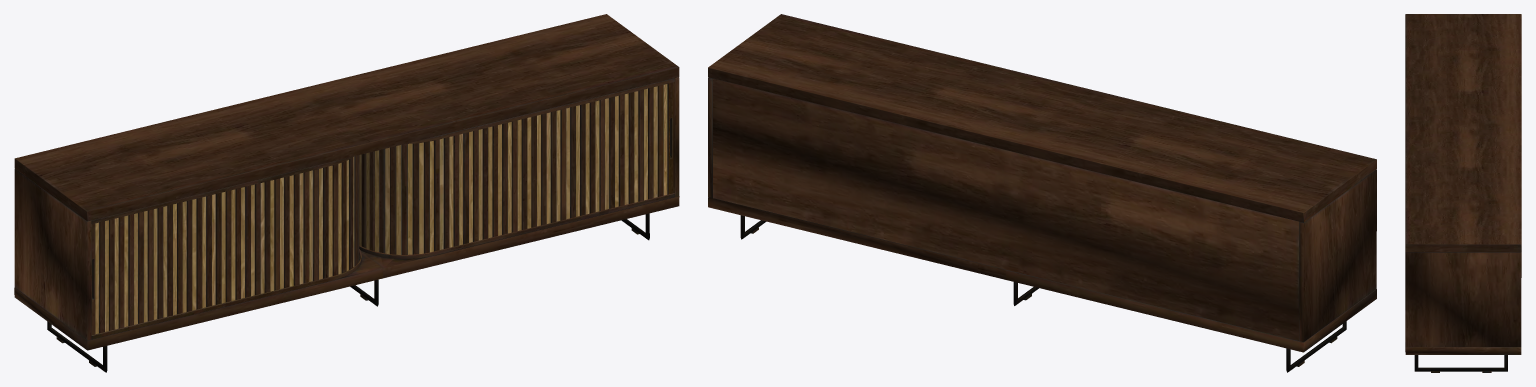
The model's file is modern_wooden_cabinet.glb.
3 views of the same model, side by side, from view 1: azimuth 30°, elevation 25°; view 2: azimuth 150°, elevation 25°; view 3: azimuth 270°, elevation 25° (orthographic). The views are drawn at different scales.
Visible parts, largest first — view 1: modern_wooden_cabinet_body, modern_wooden_cabinet_door_l; view 2: modern_wooden_cabinet_body; view 3: modern_wooden_cabinet_body.
Part boxes in pixels (x1=…): modern_wooden_cabinet_body: x1=14, y1=14, x2=679, y2=372; modern_wooden_cabinet_door_l: x1=91, y1=82, x2=673, y2=334; modern_wooden_cabinet_body: x1=708, y1=14, x2=1376, y2=372; modern_wooden_cabinet_body: x1=1405, y1=14, x2=1521, y2=372.
Size of the model in its own units: 2.44 by 0.6801 by 0.5201.
Materials: 1 (1 with a texture image).
